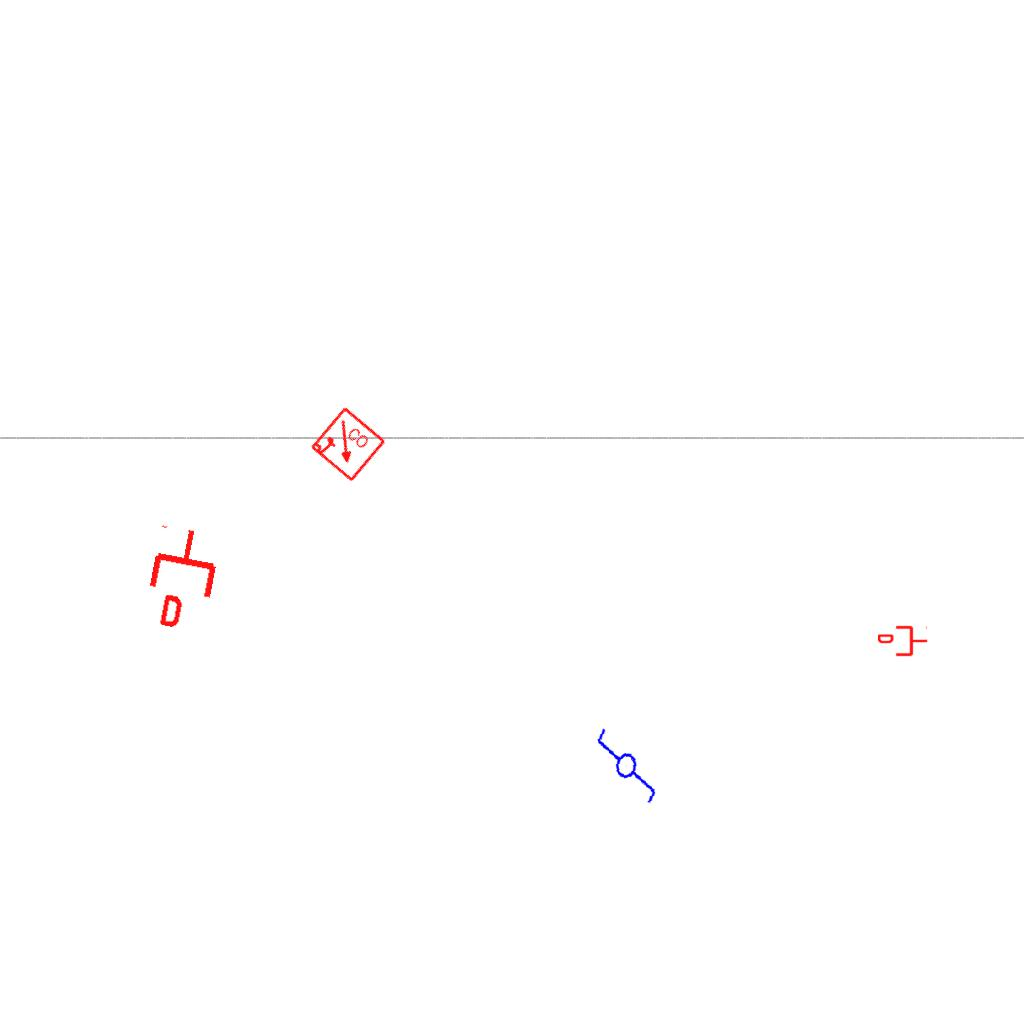Datenanschluss_einfach: (139, 522, 226, 634), (878, 624, 928, 658)
ROA_Rauchmelder_optisch_mit_Signalgeber_(Sockelsirene): (308, 405, 388, 485)
Wechselschalter: (585, 717, 671, 807)
